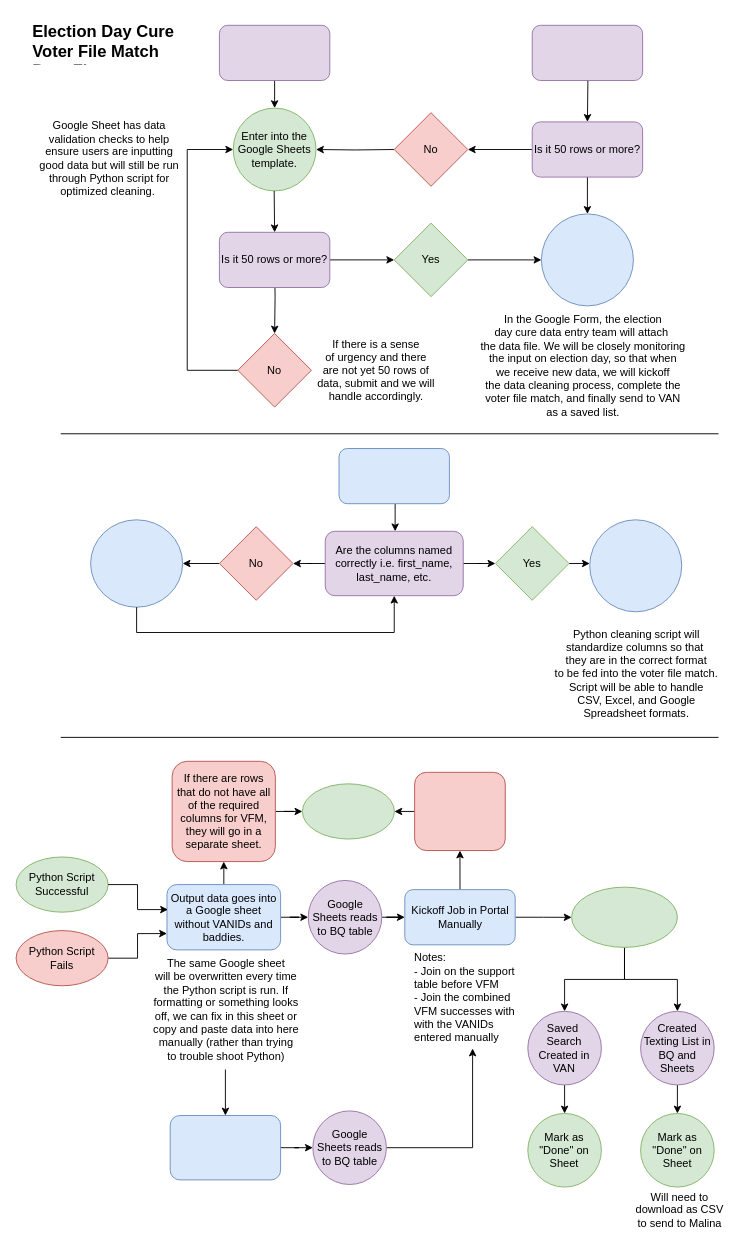
The diagram is 751 pixels wide and 1253 high, and some of its shapes have lost their labels. Each missing label, with the centre of its shape:
"Combined VFM Success and VANIDs" belongs at point 624,916.
"Kickoff the Python cleaning script" belongs at point 635,565.
"New data is submitted on the Google Form" belongs at point 393,476.
"Received a raw CSV or Excel file?" belongs at point 587,52.
"Receiving one off rejected ballot data?" belongs at point 274,52.
"Rename the columns before kicking off the Python script" belongs at point 136,563.
"Send Back to VoPro" belongs at point 347,811.
"Submit on the Google Form" belongs at point 586,259.
"VANIDs exported from Google Sheet into another sheet (if present)" belongs at point 225,1147.
"VFM Match Failures Export to Google Sheet" belongs at point 459,811.
